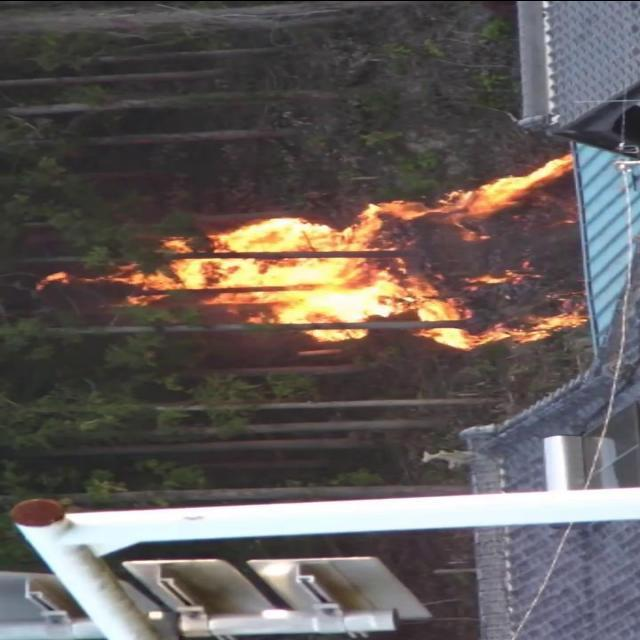Fire: (29, 163, 585, 351)
